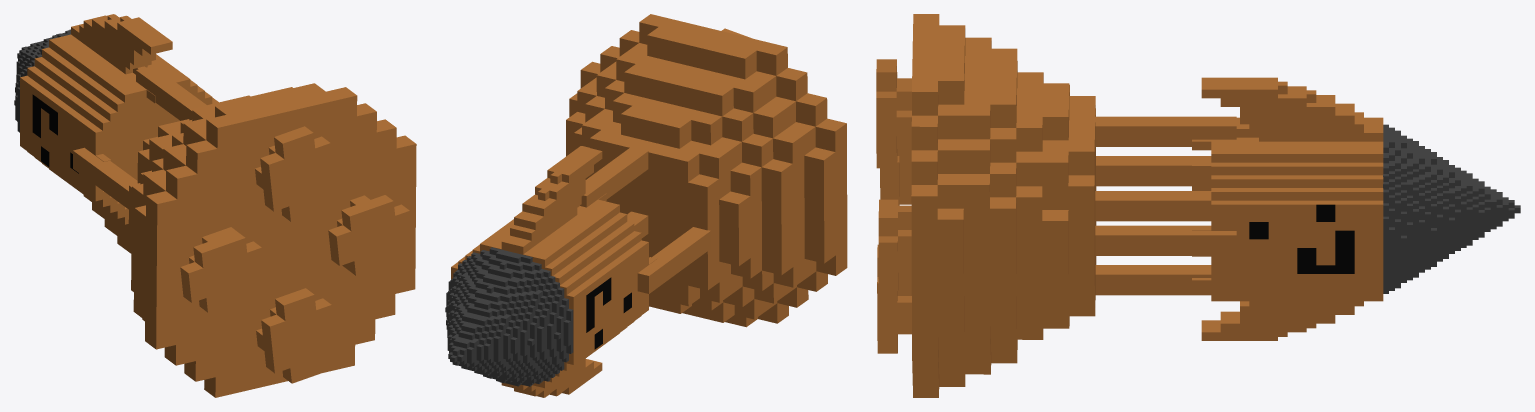
The model's file is ICBMDrill.fbx.
3 renders of one model, left to right at view 1: azimuth 30°, elevation 25°; view 2: azimuth 150°, elevation 25°; view 3: azimuth 270°, elevation 25°, orthographic. The views are drawn at different scales.
Visible parts, largest first — view 1: Cylinder.001, Cylinder, Cylinder.003, Cylinder.002, Cube.001, Cube.002, Cone; view 2: Cylinder.001, Cylinder, Cone, Cube.001, Cube.002, Cube; view 3: Cylinder.001, Cylinder, Cone, Cube.002, Cube.001, Cylinder.003, Cylinder.002, Cube.
Part boxes in pixels (<box>): Cylinder.001: <box>128,83,416,397</box>; Cylinder: <box>20,14,218,253</box>; Cylinder.003: <box>255,126,336,383</box>; Cylinder.002: <box>180,195,412,312</box>; Cube.001: <box>73,147,137,209</box>; Cube.002: <box>136,66,206,120</box>; Cone: <box>14,29,70,132</box>; Cylinder.001: <box>566,14,847,327</box>; Cylinder: <box>451,146,656,397</box>; Cone: <box>445,247,573,386</box>; Cube.001: <box>637,227,710,293</box>; Cube.002: <box>580,147,648,207</box>; Cube: <box>627,211,648,238</box>; Cylinder.001: <box>911,14,1096,397</box>; Cylinder: <box>1192,77,1383,340</box>; Cone: <box>1383,124,1520,293</box>; Cube.002: <box>1095,116,1236,295</box>; Cube.001: <box>1095,156,1236,255</box>; Cylinder.003: <box>876,59,911,353</box>; Cylinder.002: <box>878,149,911,290</box>; Cube: <box>1095,191,1211,221</box>.
Bounding box in the file's own units: 395 × 394 × 748.
